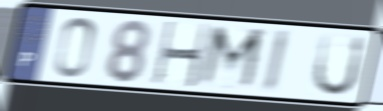0: (53, 15, 98, 80)
8: (104, 17, 153, 85)
H: (150, 19, 212, 90)
I: (260, 27, 293, 96)
M: (195, 23, 269, 94)
U: (310, 31, 369, 99)
